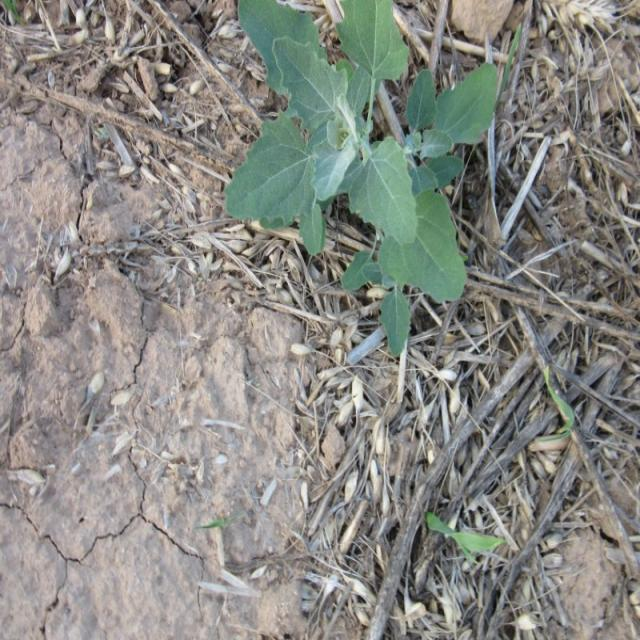ca: (228, 0, 501, 300)
